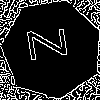Z: (27, 24, 77, 62)
